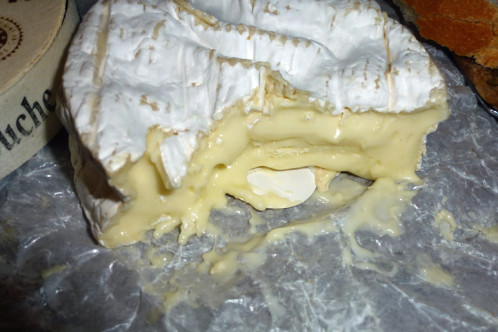camembert: (54, 1, 451, 249)
